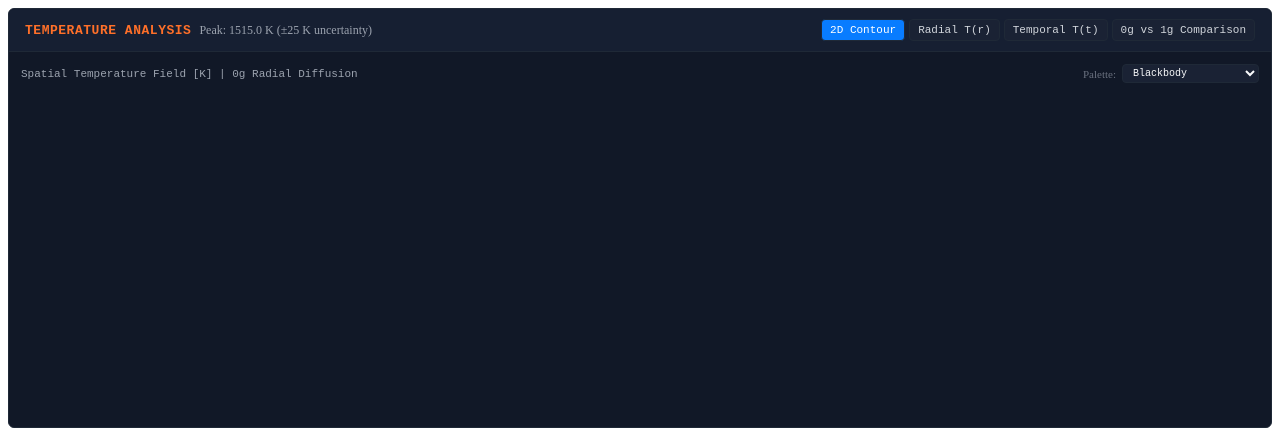
it: TemperatureDistributionChart Component › switches to Radial T(r) tab and displays radial profile
This screenshot has width=1280, height=445.
Click the button "Radial T(r)".
click(954, 30)  # box [909,19,1000,41]
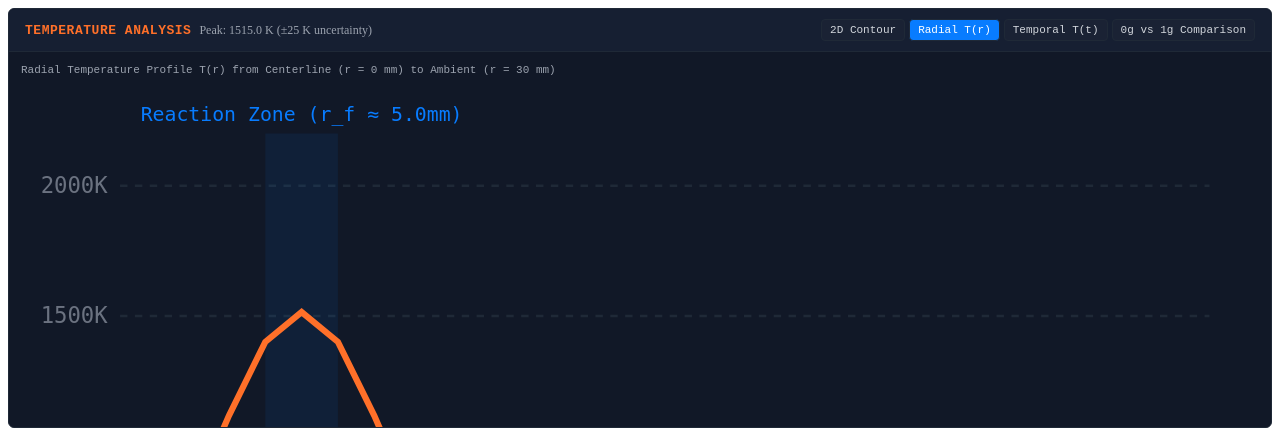
expect the text "Reaction Zone" is shown: met, box [141,103,462,126]
expect the text "Radial Temperature Profile T(r)" is shown: met, box [21,64,556,76]
